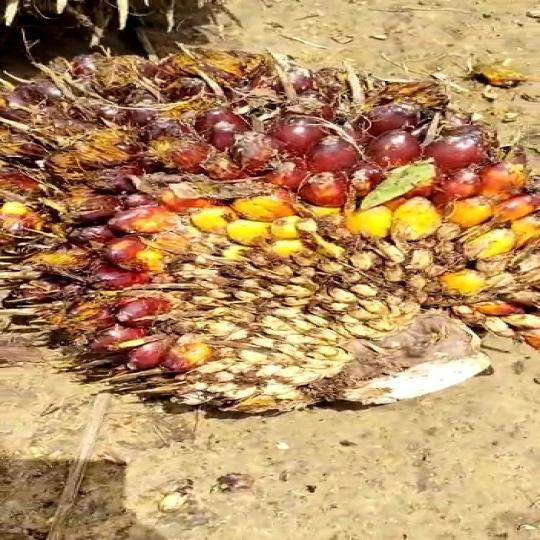kurang masak: (0, 47, 540, 429)
